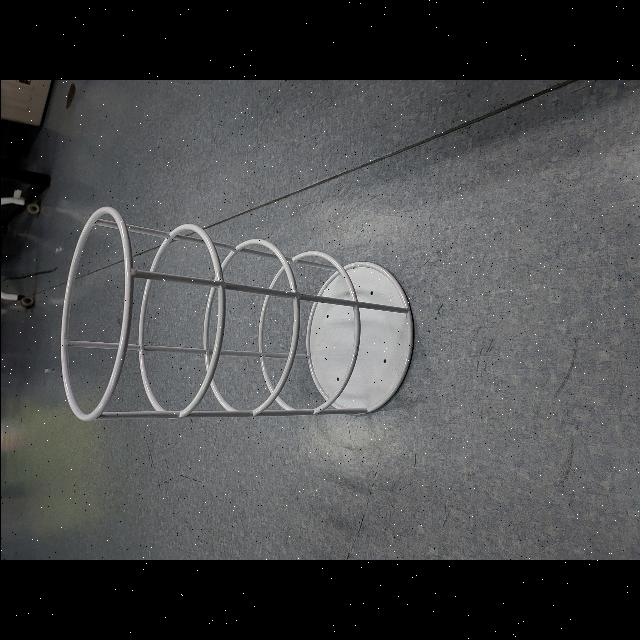S: (52, 202, 422, 436)
